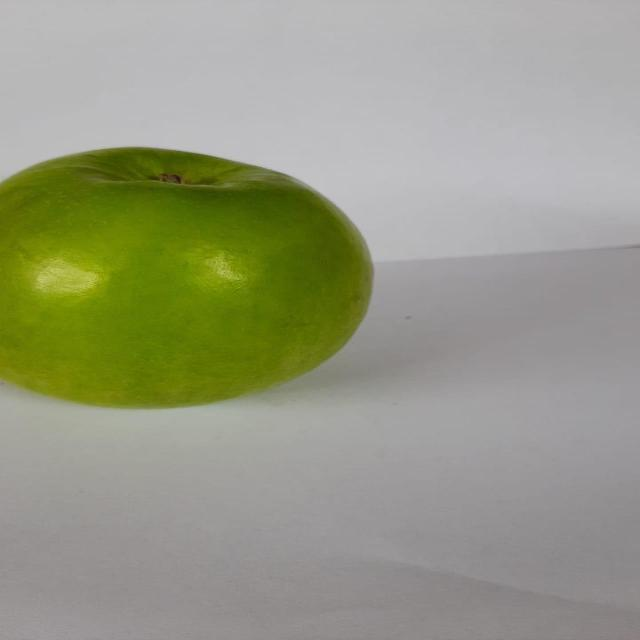Rotten Apple: (3, 137, 383, 417)
